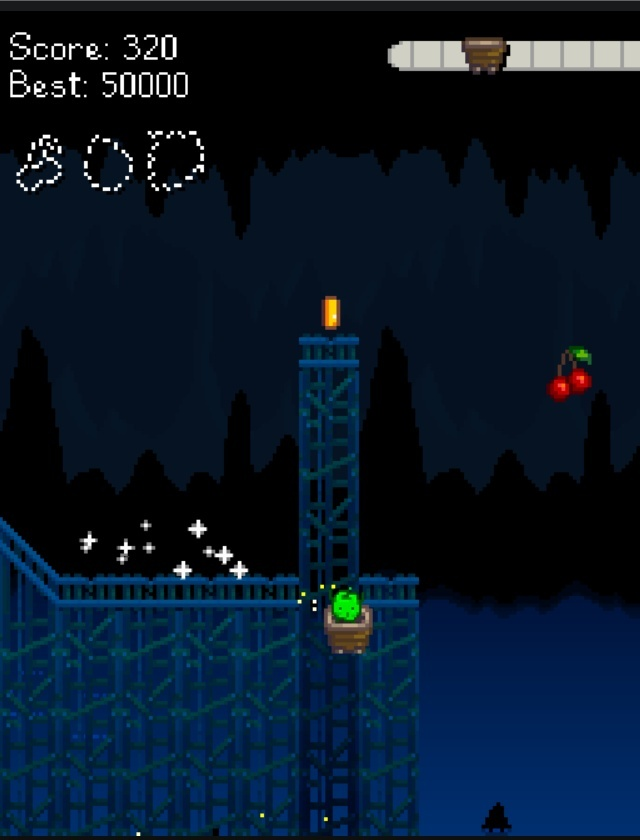cherry: (544, 335, 596, 404)
minecart: (324, 605, 372, 651)
tracks: (0, 508, 306, 617), (356, 566, 435, 613), (294, 330, 368, 373)
